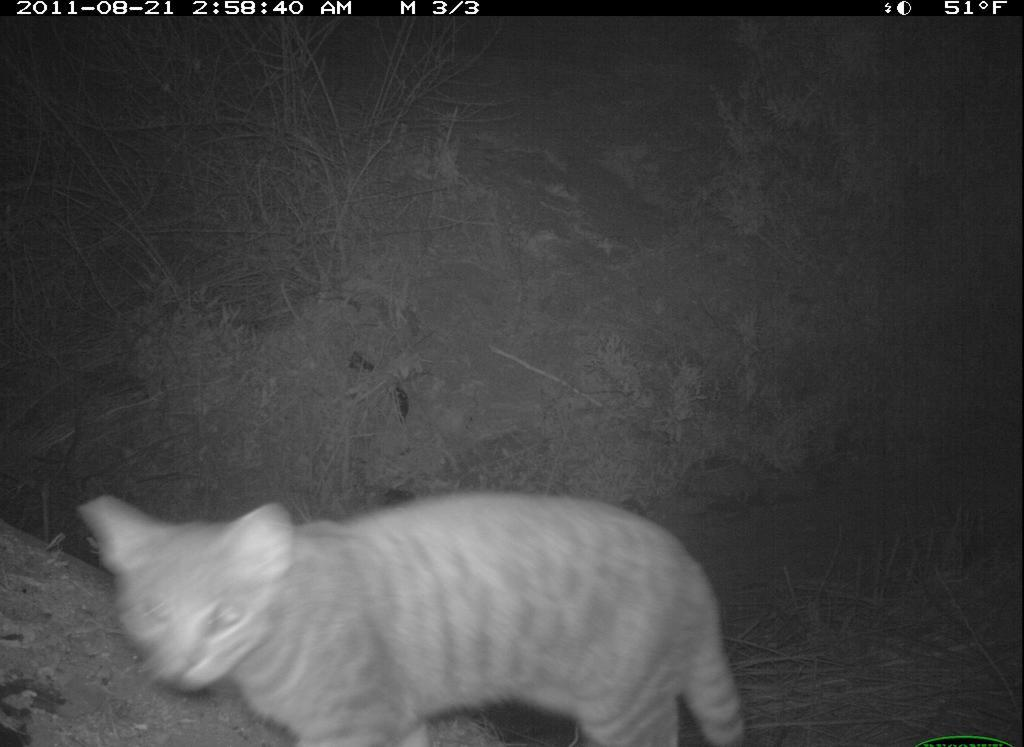cat: (61, 475, 757, 747)
